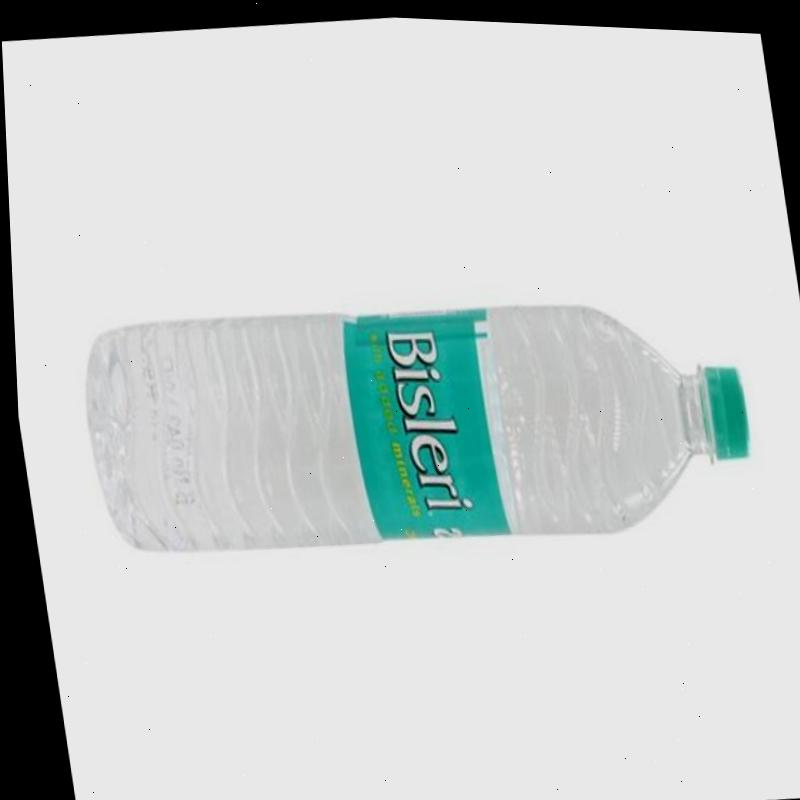botella: (68, 262, 762, 584)
